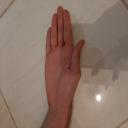OpenPalm: (44, 5, 86, 108)
